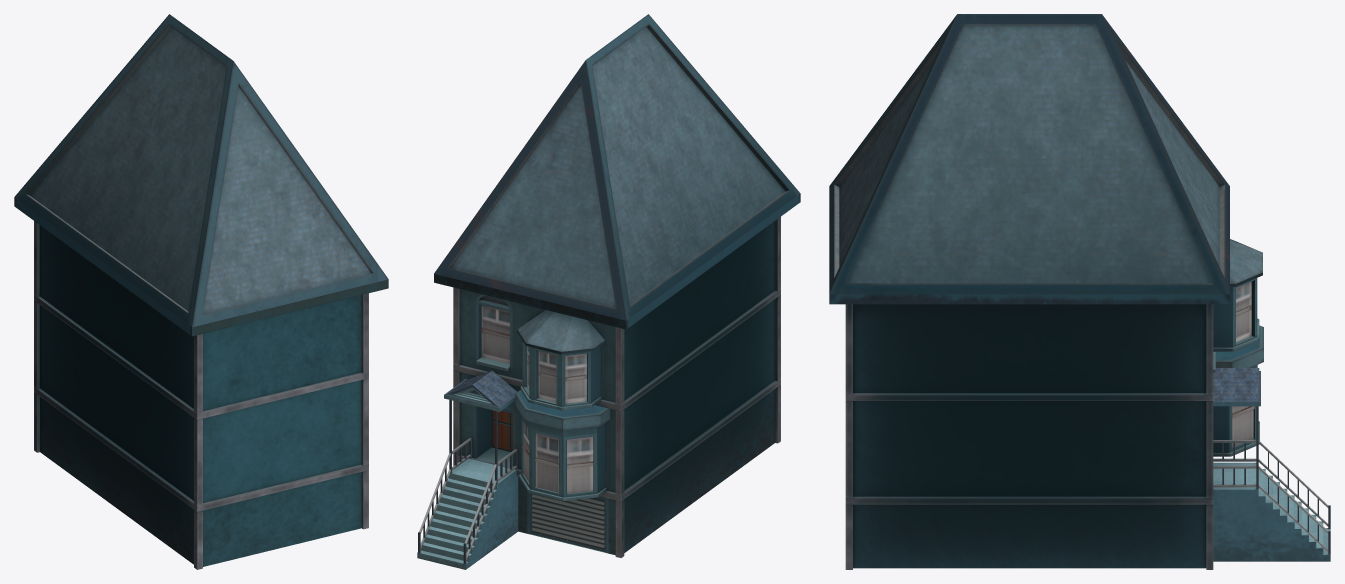
The model's file is house2.glb.
3 renders of one model, left to right at view 1: azimuth 30°, elevation 25°; view 2: azimuth 150°, elevation 25°; view 3: azimuth 270°, elevation 25°, orthographic. The views are drawn at different scales.
Visible parts, largest first — view 1: Object_105.001, Object_106.001, Object_108.001, Object_107.001, Object_117.001; view 2: Object_106.001, Object_105.001, Object_109.001, Object_112.001, Object_115.001, Object_107.001, Object_117.001, Object_108.001, Object_114.001, Object_104.001, Object_110.001, Object_113.001 (+1 smaller); view 3: Object_106.001, Object_105.001, Object_109.001, Object_108.001, Object_117.001, Object_107.001, Object_112.001, Object_110.001, Object_115.001, Object_104.001.
Part boxes in pixels (x1,y1,x2,y2): Object_105.001: [40, 225, 361, 566]; Object_106.001: [14, 14, 388, 327]; Object_108.001: [34, 295, 368, 511]; Object_107.001: [34, 221, 368, 569]; Object_117.001: [14, 197, 388, 336]; Object_106.001: [434, 14, 800, 430]; Object_105.001: [460, 221, 775, 555]; Object_109.001: [417, 370, 518, 569]; Object_112.001: [473, 294, 608, 553]; Object_115.001: [481, 296, 593, 493]; Object_107.001: [453, 217, 780, 557]; Object_117.001: [434, 193, 800, 417]; Object_108.001: [453, 289, 780, 501]; Object_114.001: [532, 494, 604, 549]; Object_104.001: [418, 400, 517, 563]; Object_110.001: [419, 438, 516, 560]; Object_113.001: [492, 410, 512, 451]; Object_106.001: [829, 14, 1263, 367]; Object_105.001: [853, 278, 1259, 568]; Object_109.001: [1213, 368, 1330, 561]; Object_108.001: [845, 393, 1213, 504]; Object_117.001: [829, 272, 1262, 360]; Object_107.001: [845, 304, 1213, 569]; Object_112.001: [1213, 278, 1259, 456]; Object_110.001: [1213, 440, 1328, 552]; Object_115.001: [1232, 281, 1253, 446]; Object_104.001: [1222, 406, 1330, 554].
Size of the model in its own units: 4.33 by 9.49 by 8.48.
14 materials, 14 textured.
